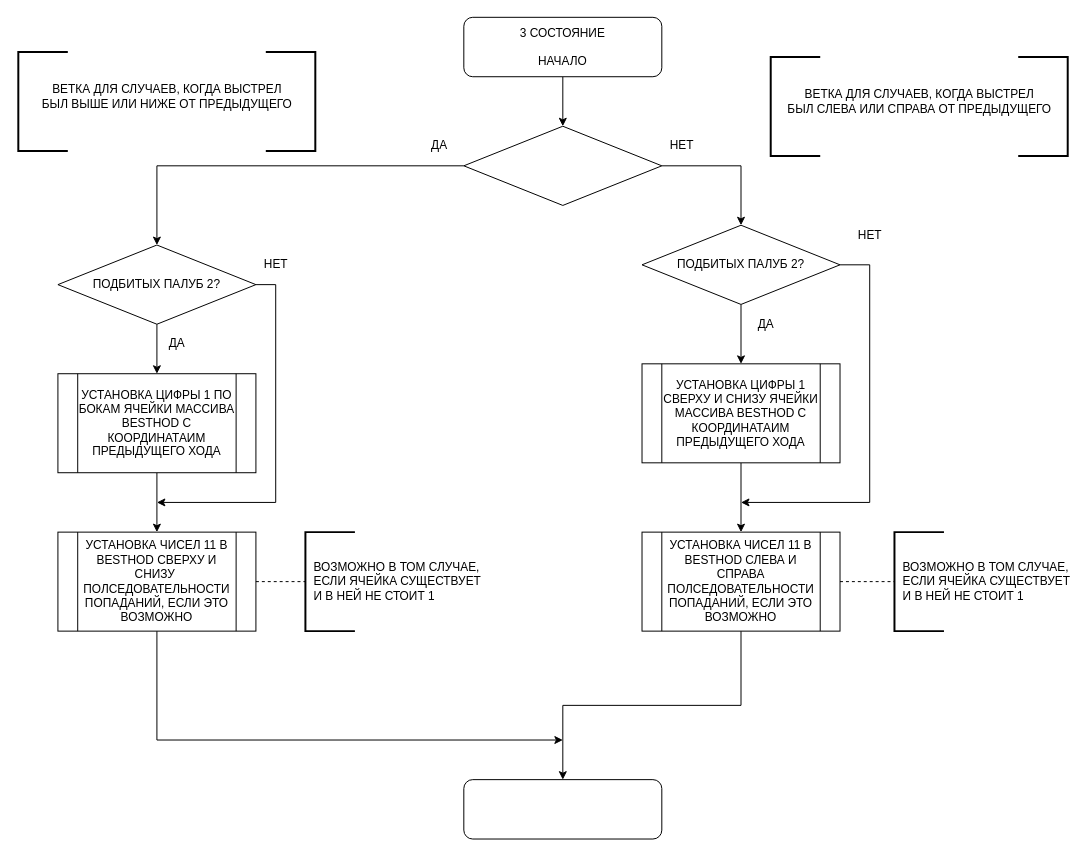
The diagram is 1087 pixels wide and 856 high, and some of its shapes have lost their labels. Each missing label, with the centre of its shape:
"ВЫСТРЕЛ БЫЛ ВЫШЕ ИЛИ НИЖЕ ПРЕДЫДУЩЕГО?" belongs at (562,165).
"КОНЕЦ 3 СОСТОЯНИЕ" belongs at (562,809).
